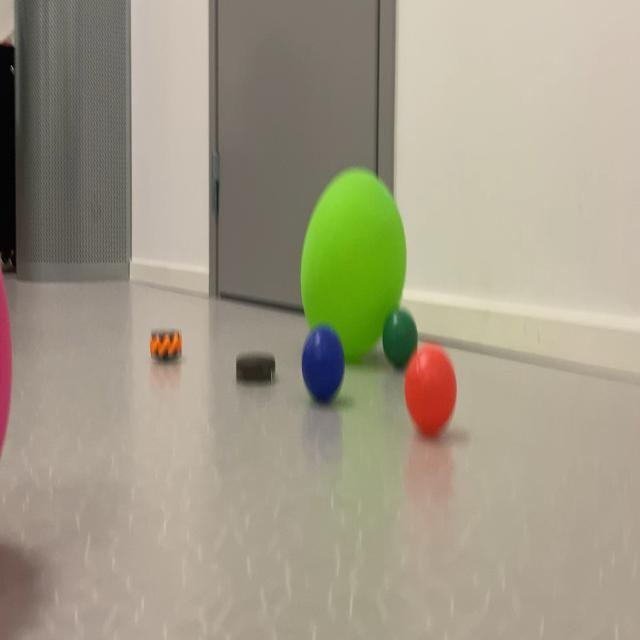7: (399, 339, 460, 448)
blue ball: (286, 305, 457, 449)
green ball: (298, 315, 366, 428)
red ball: (378, 300, 421, 376)
